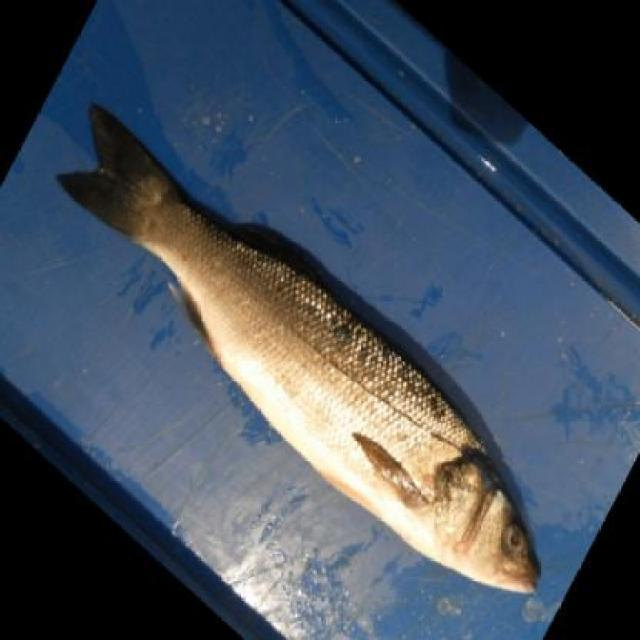Healthy Fish: (54, 93, 551, 604)
